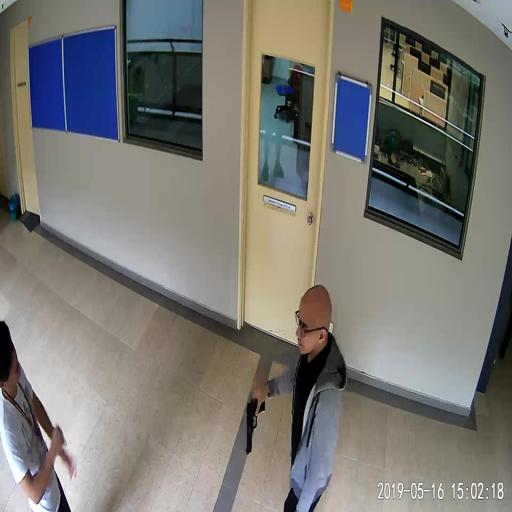pistol: (246, 395, 265, 455)
